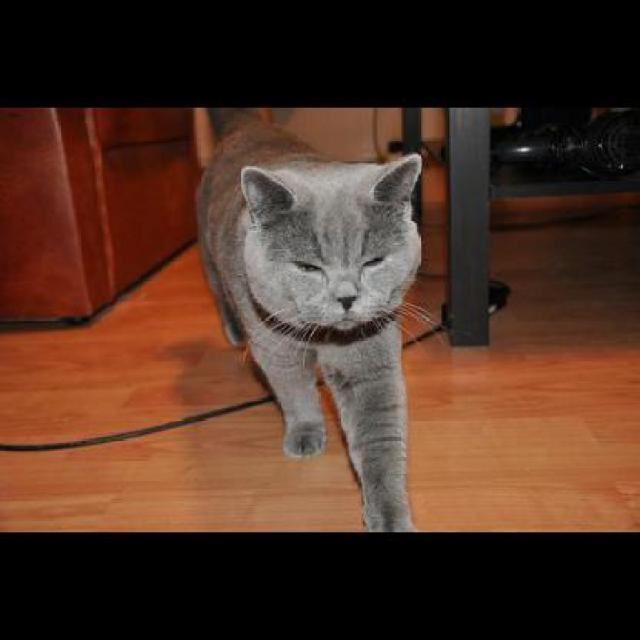unauthorized: (192, 106, 437, 531)
